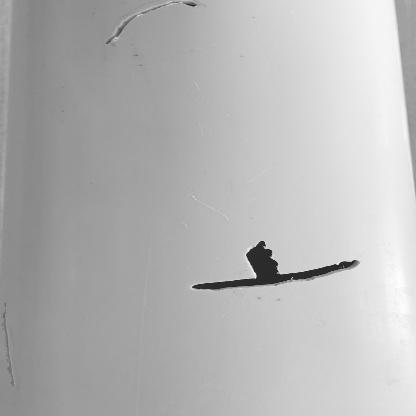fengxi: (191, 260, 362, 290), (106, 1, 198, 45)
kongdong: (242, 240, 283, 278)
